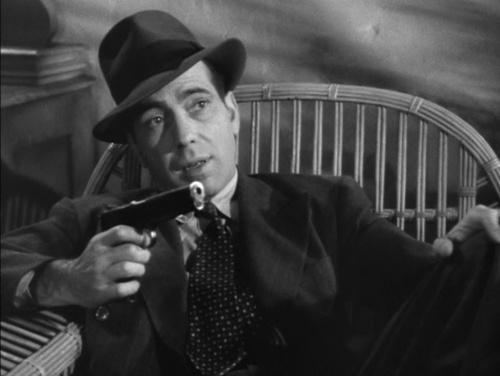Gun: (96, 181, 206, 251)
